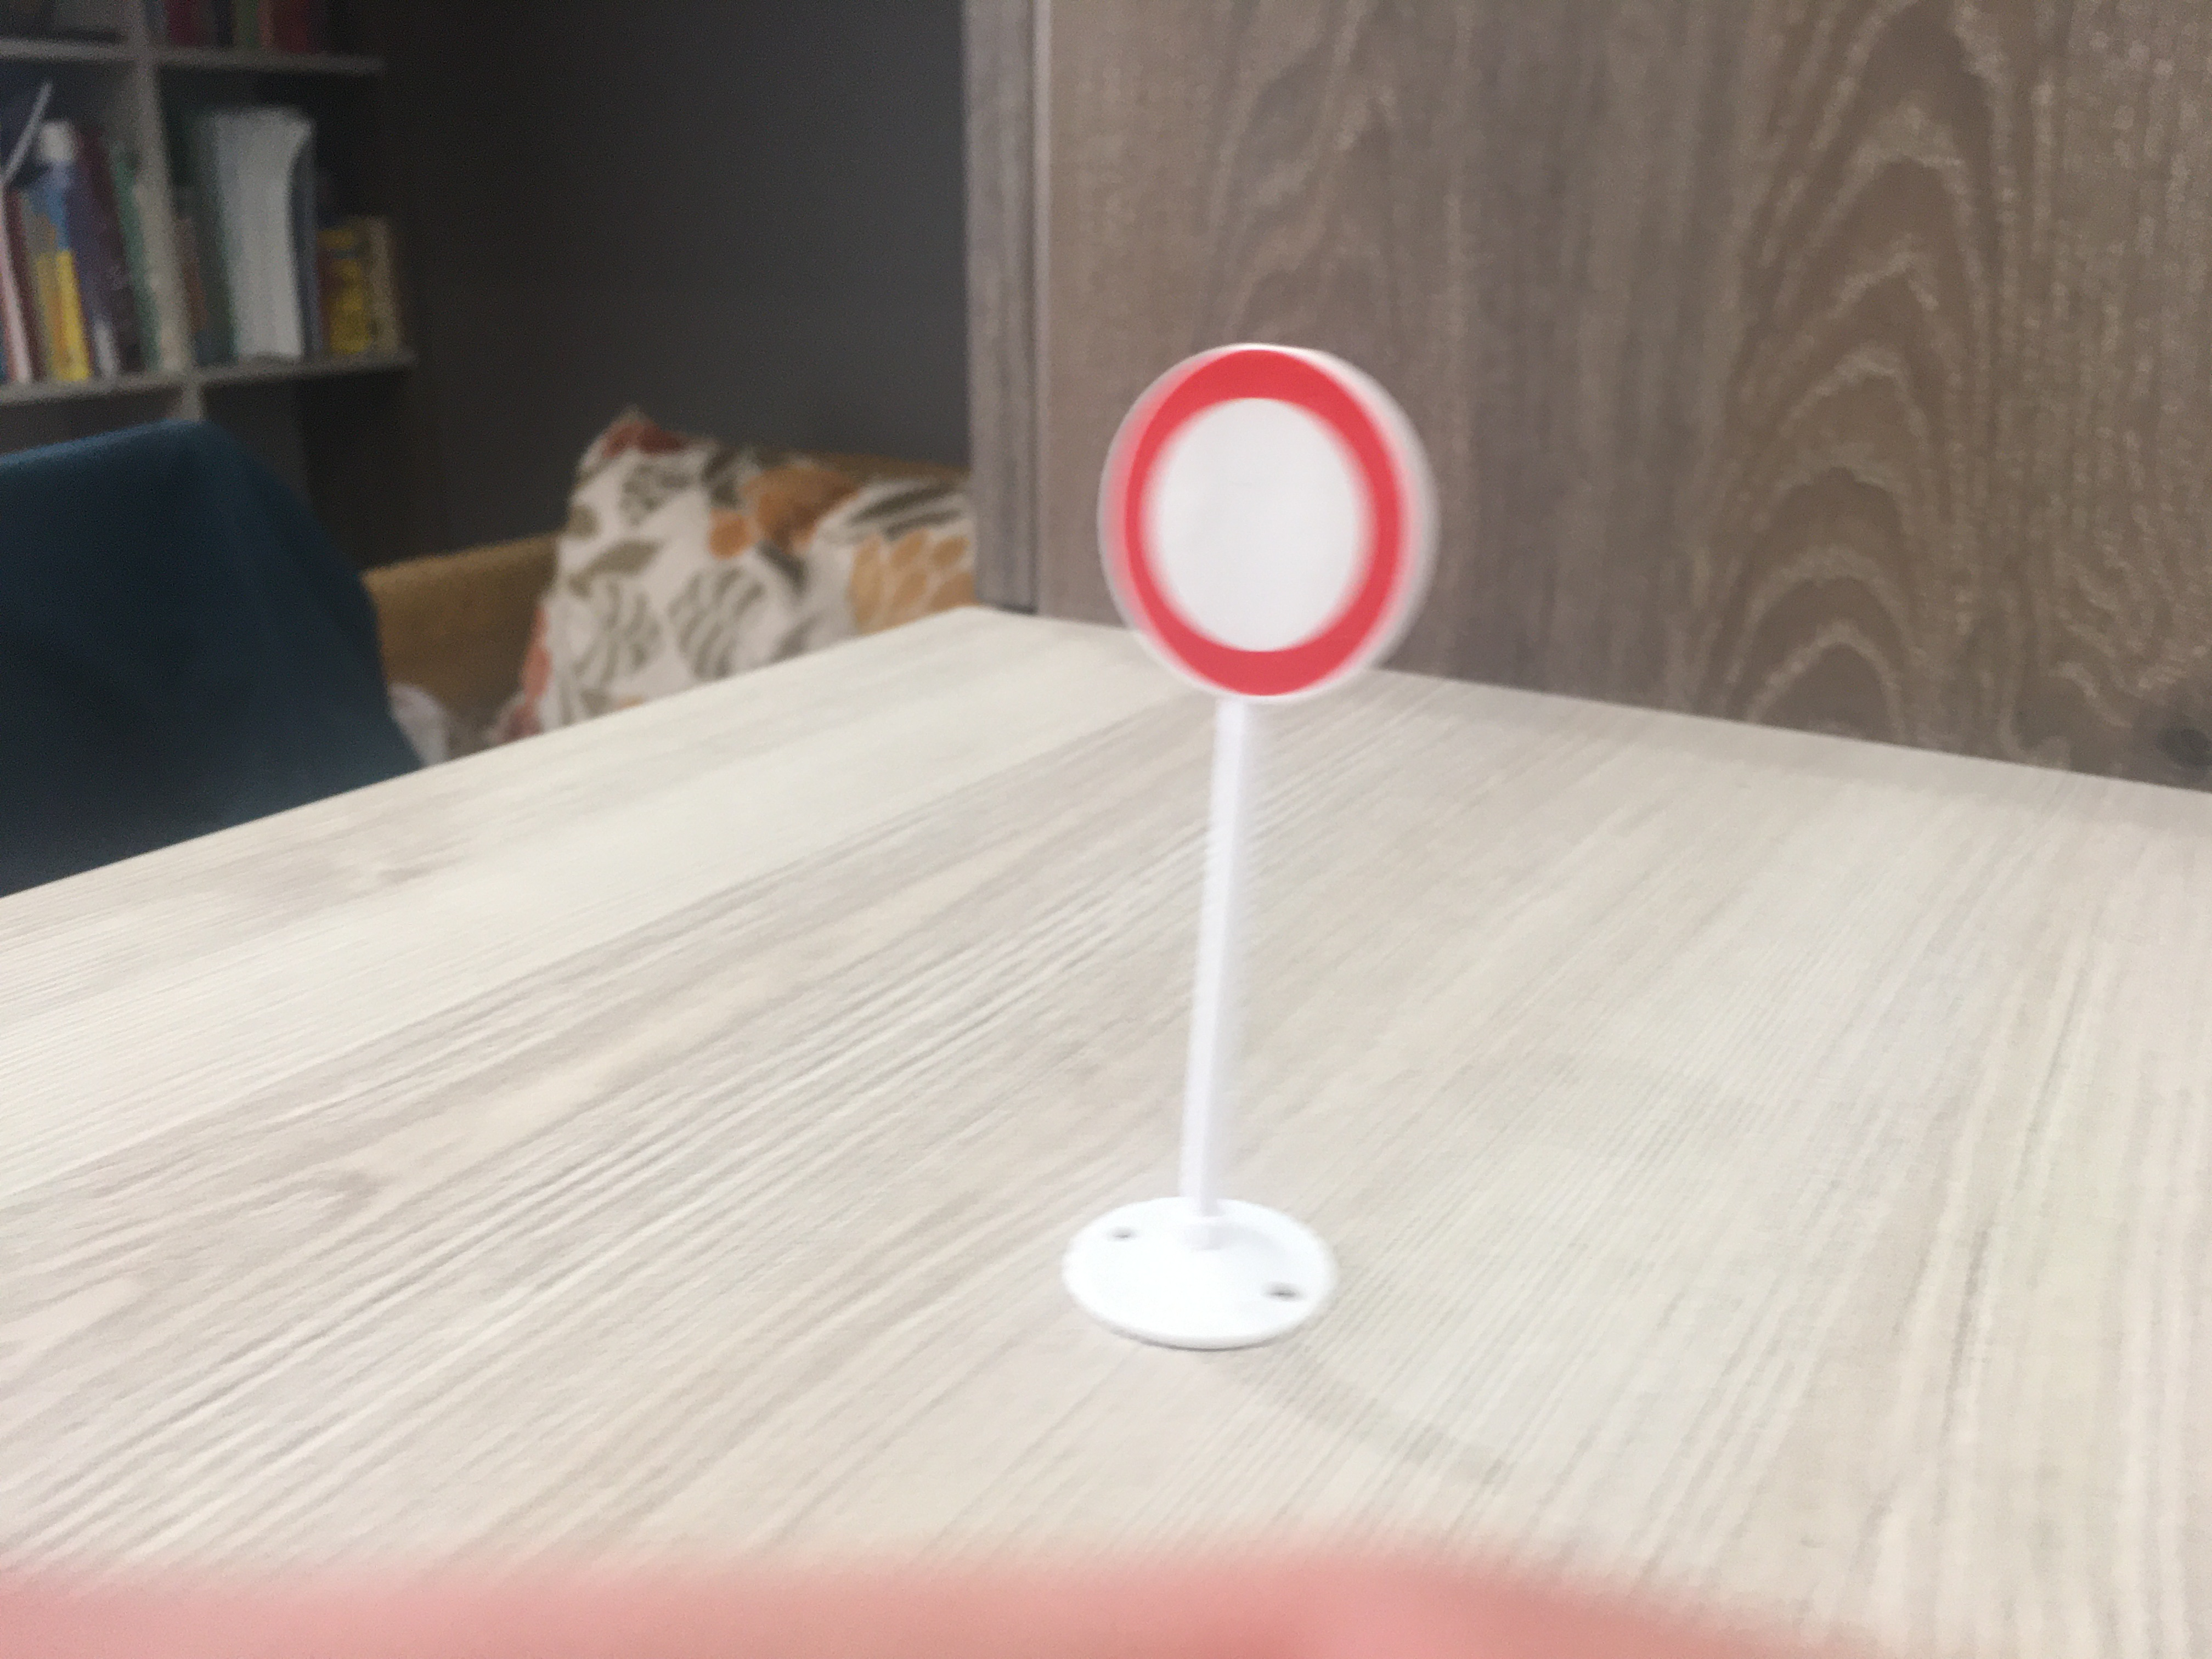noDrive: (1106, 350, 1407, 701)
